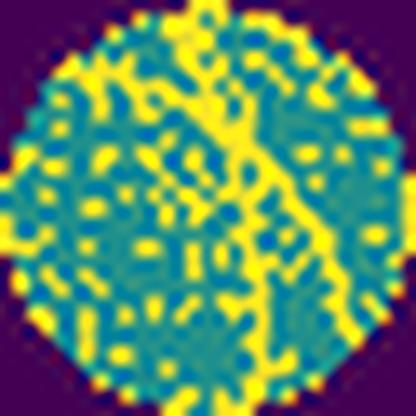Scratch: (62, 8, 370, 410)
